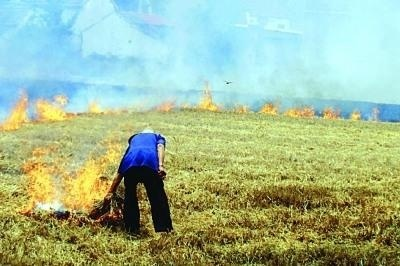fire: (177, 91, 389, 122)
